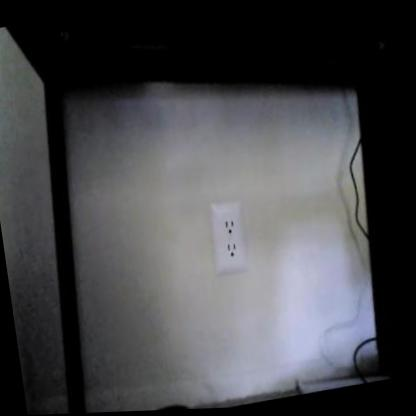OUTLET: (206, 197, 252, 275)
